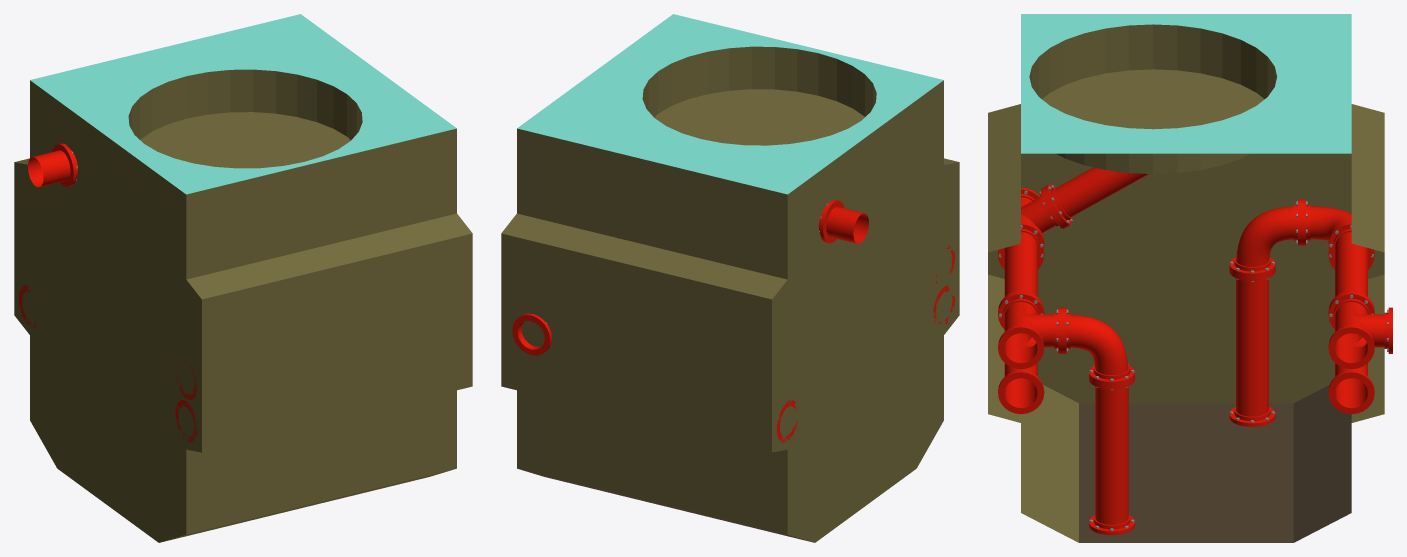
Rendered from Dead_Manhole_Up.fbx.
3 views of the same model, side by side, from view 1: azimuth 30°, elevation 25°; view 2: azimuth 150°, elevation 25°; view 3: azimuth 270°, elevation 25° (orthographic). The views are drawn at different scales.
Visible parts, largest first — view 1: Dead_Manhole_Up, Pipe_200_Corner.051; view 2: Dead_Manhole_Up, Pipe_200_Corner.051, Pipe_200_T.011; view 3: Dead_Manhole_Up, Pipe_200_Straight_2m.031, Pipe_200_Straight_2m.030, Pipe_200_T.012, Pipe_200_T.011, Pipe_200_Corner.050, Pipe_200_Corner.049, Pipe_200_Straight_2m.032, Pipe_200_Straight_2m.029, Pipe_200_Straight_2m.028, Pipe_200_Straight_1m.010, Pipe_200_Straight_1m.009 (+2 smaller).
Part boxes in pixels (x1,y1,x2,y2): Dead_Manhole_Up: [14, 14, 472, 542]; Pipe_200_Corner.051: [28, 143, 77, 187]; Dead_Manhole_Up: [501, 14, 959, 542]; Pipe_200_Corner.051: [818, 200, 868, 243]; Pipe_200_T.011: [512, 313, 552, 355]; Dead_Manhole_Up: [988, 14, 1384, 542]; Pipe_200_Straight_2m.031: [1089, 377, 1134, 535]; Pipe_200_Straight_2m.030: [1229, 268, 1275, 426]; Pipe_200_T.012: [998, 292, 1062, 369]; Pipe_200_T.011: [1328, 292, 1392, 369]; Pipe_200_Corner.050: [1062, 307, 1134, 385]; Pipe_200_Corner.049: [1229, 199, 1301, 277]; Pipe_200_Straight_2m.032: [1044, 167, 1148, 226]; Pipe_200_Straight_2m.029: [998, 222, 1044, 312]; Pipe_200_Straight_2m.028: [1328, 222, 1374, 312]; Pipe_200_Straight_1m.010: [998, 250, 1044, 414]; Pipe_200_Straight_1m.009: [1328, 250, 1374, 414].
Size of the model in its own units: 2.25 by 2.6 by 2.45.
